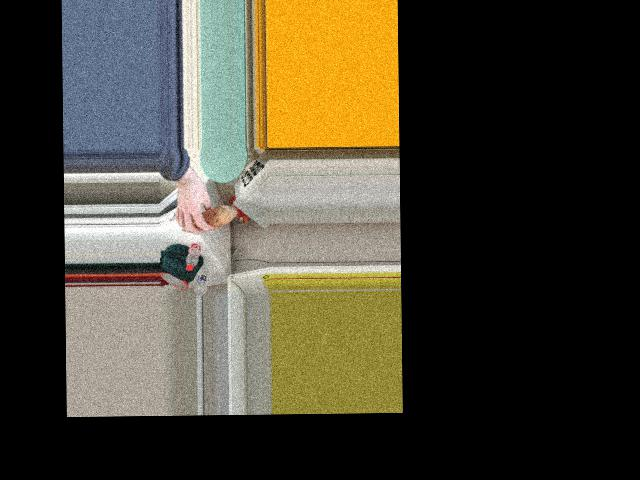sweet_potato: (178, 206, 235, 233)
